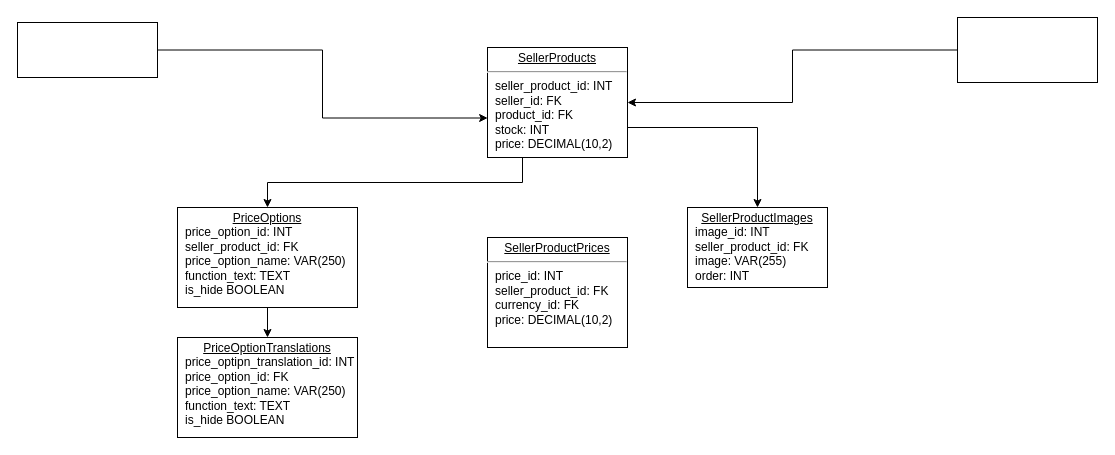
Image size: 1115x455. Some labels were removed from this diagram. Here are the shapes that lost their labels. From the top down, the centre of each, then its label:
pixel 87 50: Products product_id: INT
pixel 1027 49: Sellers seller_id: INT seller_name: VAR(255)
